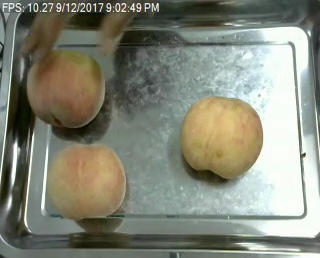Peach: (179, 95, 263, 180), (24, 49, 104, 131), (48, 143, 127, 220)
